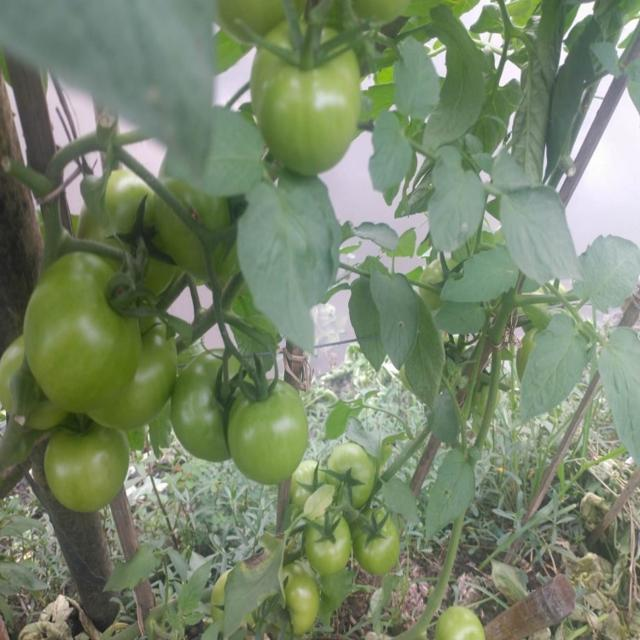tomato: (27, 258, 137, 413), (257, 27, 358, 175), (82, 179, 183, 305), (233, 377, 311, 482), (178, 346, 237, 470), (48, 418, 124, 512), (115, 323, 178, 429), (3, 337, 58, 429), (304, 512, 353, 576), (352, 511, 399, 574), (325, 444, 373, 501), (284, 577, 322, 630), (435, 607, 482, 640), (291, 452, 322, 499), (424, 259, 453, 308), (210, 578, 230, 629)
